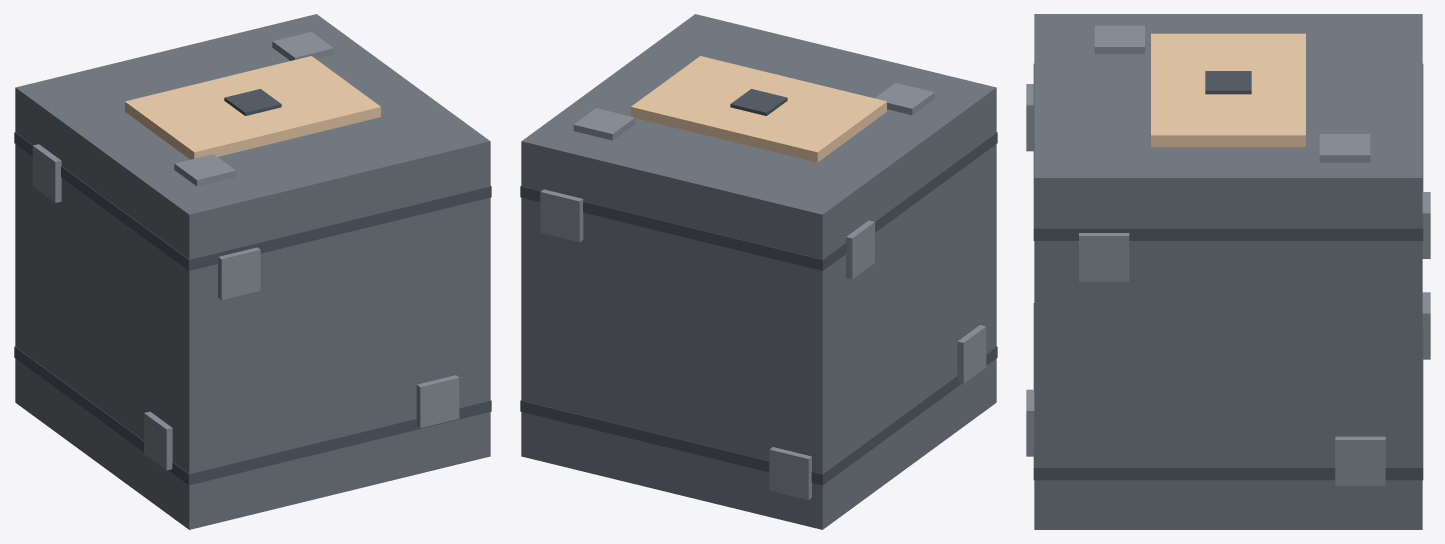
Rendered from plate_ore_block.glb.
3 views of the same model, side by side, from view 1: azimuth 30°, elevation 25°; view 2: azimuth 150°, elevation 25°; view 3: azimuth 270°, elevation 25° (orthographic). The views are drawn at different scales.
Parts seen in each view (by area): view 1: dark_stone_core, plate_mark, dark_seam_1, dark_seam, stone_chip_1, stone_chip, stone_chip_6, stone_chip_7, stone_chip_8, stone_chip_9, plate_center; view 2: dark_stone_core, plate_mark, dark_seam, dark_seam_1, stone_chip_3, stone_chip_2, stone_chip_7, stone_chip_6, stone_chip_9, stone_chip_8, plate_center; view 3: dark_stone_core, plate_mark, dark_seam_1, dark_seam, stone_chip_5, stone_chip_4, stone_chip_8, stone_chip_9, plate_center, stone_chip_1, stone_chip_2, stone_chip_3 (+1 smaller).
Part boxes in pixels (x1,y1,x2,y2): dark_stone_core: (15,14,490,529); plate_mark: (125,56,380,159); dark_seam_1: (14,132,491,270); dark_seam: (14,346,491,485); stone_chip_1: (416,375,459,427); stone_chip: (218,247,260,300); stone_chip_6: (32,144,61,202); stone_chip_7: (144,411,172,470); stone_chip_8: (174,154,236,186); stone_chip_9: (272,31,333,60); plate_center: (224,89,281,115); dark_stone_core: (521,14,996,529); plate_mark: (631,56,886,162); dark_seam: (520,346,997,485); dark_seam_1: (520,132,997,270); stone_chip_3: (540,189,583,242); stone_chip_2: (769,447,811,499); stone_chip_7: (957,325,986,383); stone_chip_6: (846,220,874,279); stone_chip_9: (573,108,635,140); stone_chip_8: (875,83,934,115); plate_center: (730,89,787,115); dark_stone_core: (1034,14,1422,529); plate_mark: (1151,33,1305,146); dark_seam_1: (1033,64,1423,240); dark_seam: (1033,303,1423,480); stone_chip_5: (1335,436,1385,485); stone_chip_4: (1079,233,1129,281); stone_chip_8: (1094,25,1144,54); stone_chip_9: (1319,134,1370,162); plate_center: (1205,71,1251,94); stone_chip_1: (1026,389,1034,456); stone_chip_2: (1422,292,1430,359); stone_chip_3: (1422,192,1430,258).
Size of the model in its own units: 1.04 by 1.06 by 1.04.
